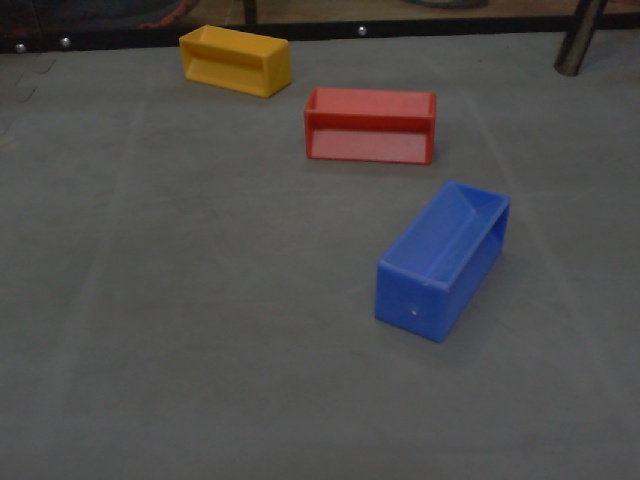BlueSample: (374, 177, 512, 344)
RedSample: (301, 85, 437, 164)
YellowSample: (176, 22, 294, 102)
